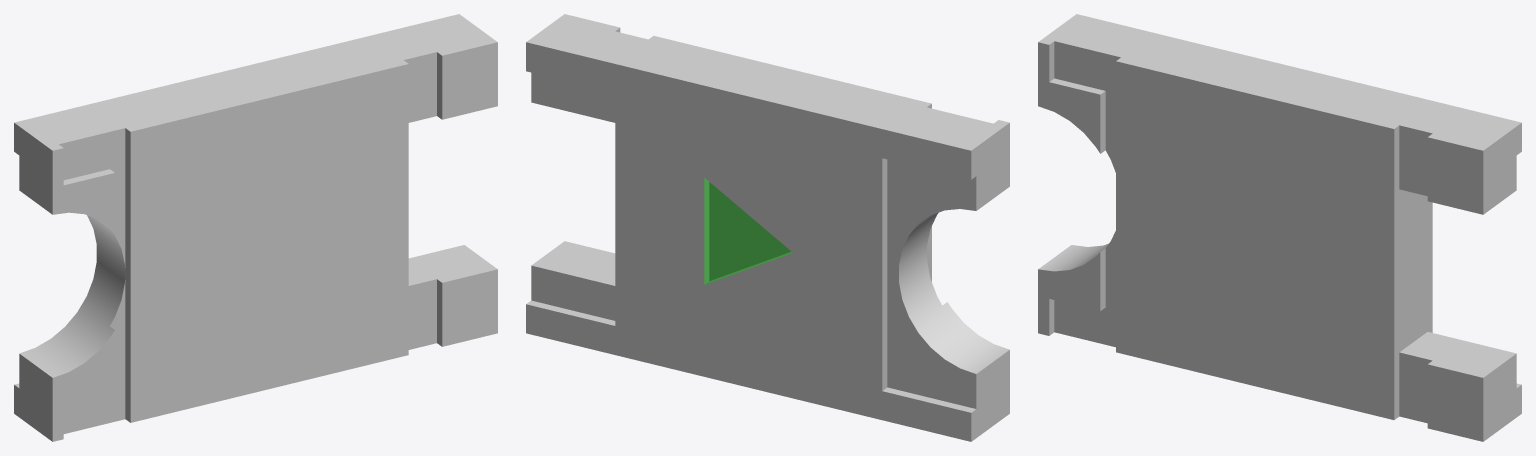
File: housing.gltf
3 views of the same model, side by side, from view 1: azimuth 30°, elevation 25°; view 2: azimuth 150°, elevation 25°; view 3: azimuth 330°, elevation 25° (orthographic).
Parts seen in each view (by area): view 1: mesh91176, mesh91177, mesh91185, mesh91171, mesh91165, mesh91181, mesh91186, mesh91187, mesh91182, mesh91160, mesh91159, mesh91166 (+3 smaller); view 2: mesh91154, mesh91177, mesh91158, mesh91185, mesh91150, mesh91163, mesh91169, mesh91159, mesh91160, mesh91166, mesh91156, mesh91151 (+2 smaller); view 3: mesh91176, mesh91177, mesh91175, mesh91165, mesh91171, mesh91181, mesh91186, mesh91182, mesh91187, mesh91166, mesh91170, mesh91164 (+3 smaller).
Part boxes in pixels (<box>): mesh91176: <box>130,64,408,422</box>; mesh91177: <box>14,14,497,150</box>; mesh91185: <box>19,215,125,377</box>; mesh91171: <box>442,42,497,119</box>; mesh91165: <box>442,269,497,346</box>; mesh91181: <box>59,128,125,267</box>; mesh91186: <box>63,280,125,433</box>; mesh91187: <box>52,330,114,441</box>; mesh91182: <box>52,148,114,231</box>; mesh91160: <box>14,123,52,214</box>; mesh91159: <box>14,354,52,441</box>; mesh91166: <box>408,245,497,285</box>; mesh91154: <box>526,42,971,441</box>; mesh91177: <box>526,14,1009,150</box>; mesh91158: <box>887,159,976,408</box>; mesh91185: <box>899,212,1009,373</box>; mesh91150: <box>709,182,791,280</box>; mesh91163: <box>531,265,615,320</box>; mesh91169: <box>531,72,615,122</box>; mesh91159: <box>971,350,1009,441</box>; mesh91160: <box>971,123,1009,210</box>; mesh91166: <box>531,241,615,285</box>; mesh91156: <box>882,158,887,390</box>; mesh91151: <box>704,178,709,284</box>; mesh91176: <box>1116,61,1394,419</box>; mesh91177: <box>1038,14,1521,150</box>; mesh91175: <box>1394,126,1432,419</box>; mesh91165: <box>1427,364,1483,441</box>; mesh91171: <box>1427,137,1483,214</box>; mesh91181: <box>1054,41,1120,172</box>; mesh91186: <box>1054,231,1115,347</box>; mesh91182: <box>1038,42,1100,153</box>; mesh91187: <box>1038,252,1100,335</box>; mesh91166: <box>1399,332,1516,377</box>; mesh91170: <box>1483,123,1521,214</box>; mesh91164: <box>1483,354,1521,441</box>.
Size of the model in its own units: 0.002 by 0.00125 by 0.0003.
